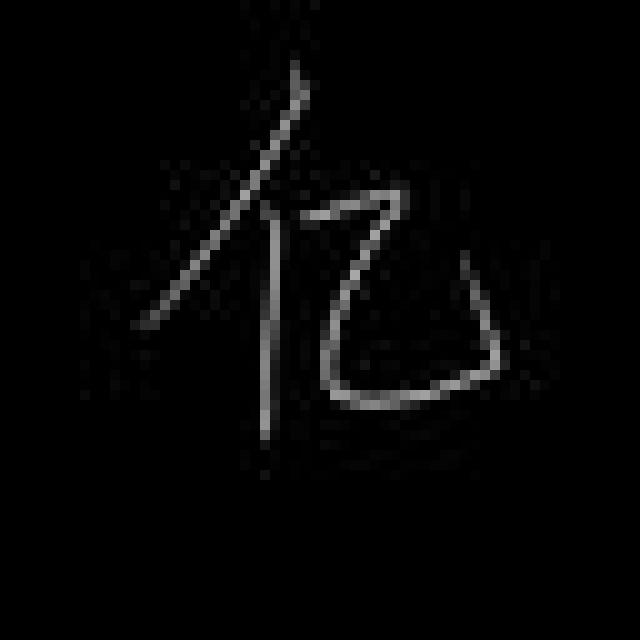100000 -a hundred thousand-: (124, 59, 514, 439)
